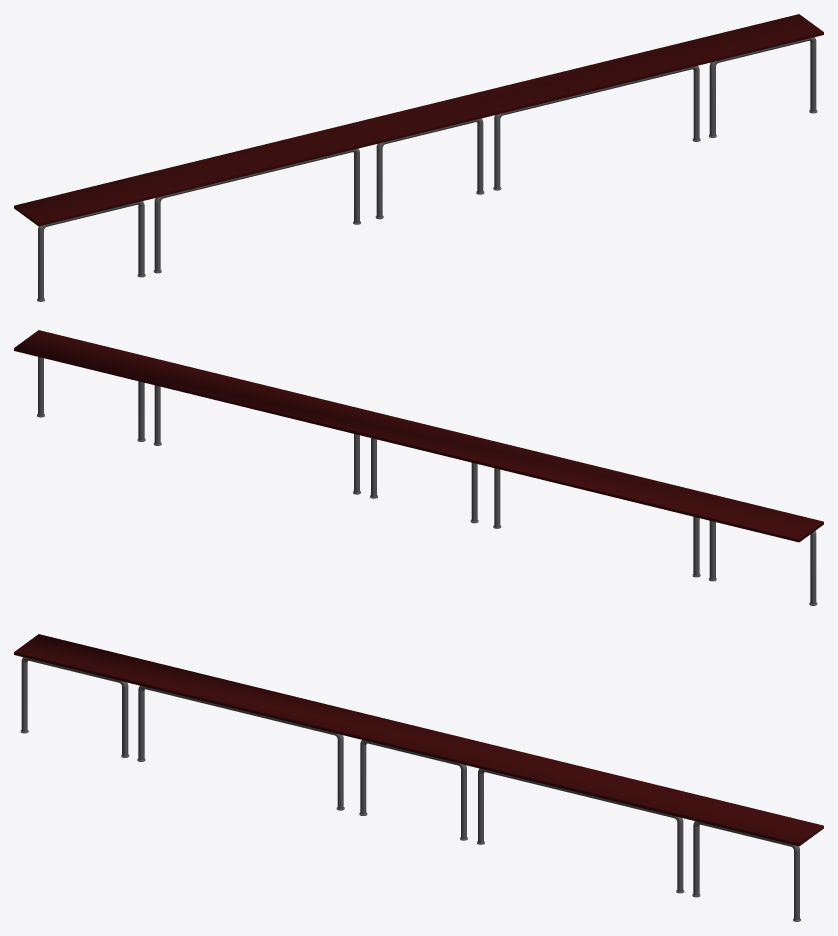
File: desk-mid.dae
3 views of the same model, one above another, from view 1: azimuth 30°, elevation 25°; view 2: azimuth 150°, elevation 25°; view 3: azimuth 330°, elevation 25° (orthographic).
Visible parts, largest first — view 1: deskastolu, r_m33, r_m038, r_m25, r_m037; view 2: deskastolu, r_m33, r_m037, r_m038, r_m25; view 3: deskastolu, r_m33, r_m037, r_m038, r_m25.
Boxes of the visible parts, x1,y1,x2,y2 form: deskastolu: [14, 14, 823, 226]; r_m33: [154, 65, 699, 271]; r_m038: [709, 37, 816, 136]; r_m25: [376, 118, 483, 217]; r_m037: [38, 201, 144, 300]; deskastolu: [14, 330, 823, 542]; r_m33: [154, 385, 699, 575]; r_m037: [709, 521, 816, 604]; r_m038: [38, 357, 144, 440]; r_m25: [371, 438, 477, 521]; deskastolu: [14, 634, 823, 846]; r_m33: [138, 685, 683, 891]; r_m037: [21, 657, 128, 756]; r_m038: [693, 821, 799, 920]; r_m25: [360, 740, 466, 838].
Bounding box in the file's own units: 734 × 72.49 × 40.
